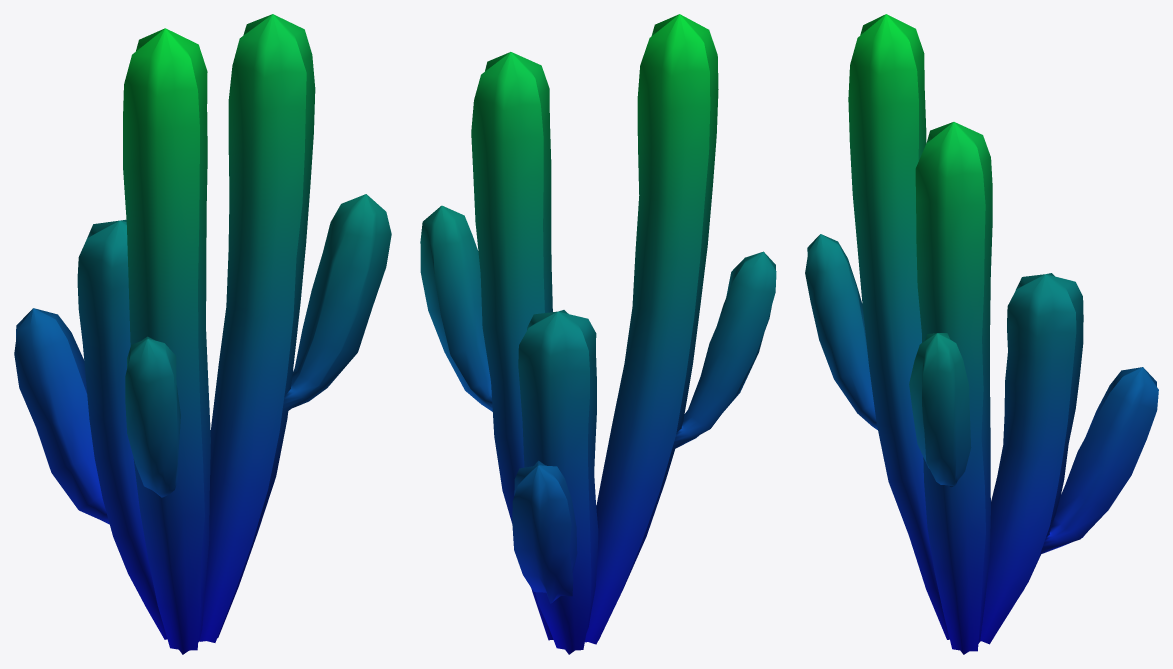
The model's file is Senita5.fbx.
3 views of the same model, side by side, from view 1: azimuth 30°, elevation 25°; view 2: azimuth 150°, elevation 25°; view 3: azimuth 270°, elevation 25° (orthographic). The views are drawn at different scales.
Parts seen in each view (by area): view 1: Senita5_LOD0; view 2: Senita5_LOD0; view 3: Senita5_LOD0.
Boxes of the visible parts, x1,y1,x2,y2 form: Senita5_LOD0: [14, 14, 391, 654]; Senita5_LOD0: [420, 14, 776, 654]; Senita5_LOD0: [805, 14, 1158, 654].
Size of what is drawn, in the model's own units: 118 by 236 by 126.
